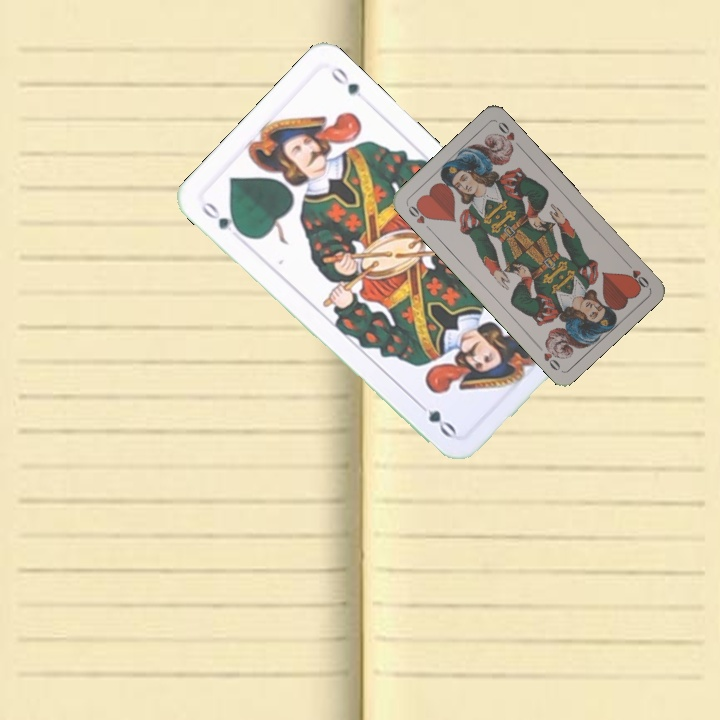GO: (197, 197, 247, 239)
HO: (620, 257, 652, 291), (404, 199, 435, 234)
